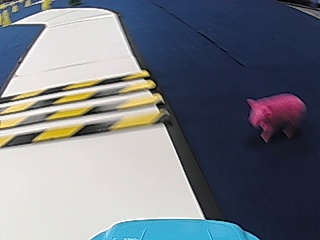bump: (8, 75, 140, 141)
